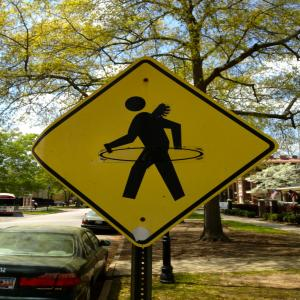Vehicle-registration-plate: (1, 278, 16, 290)
